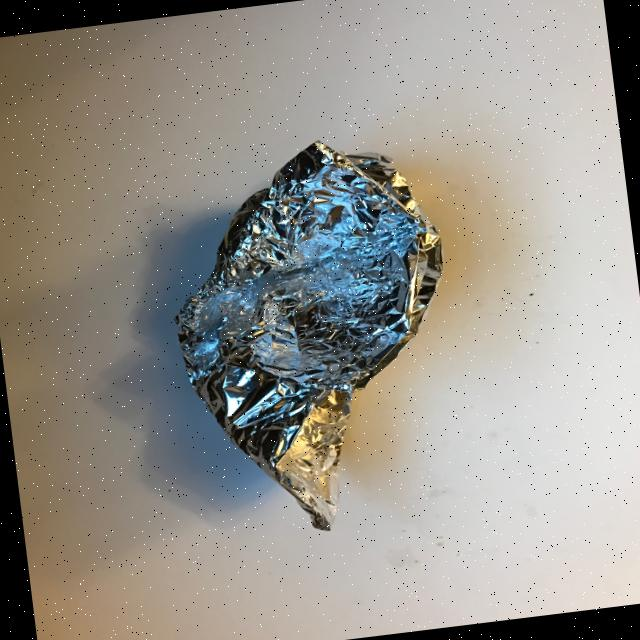metal: (153, 126, 476, 546)
